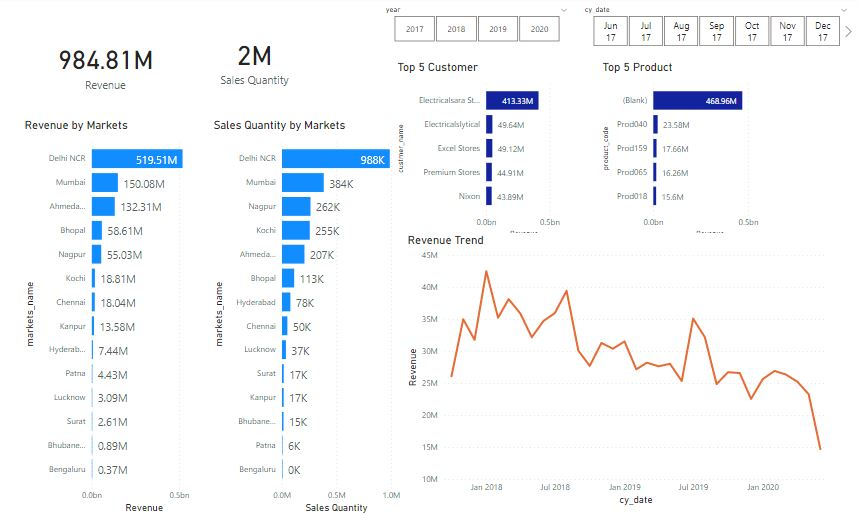

The page's visual inventory and layout, read from the dashboard file:
{"tool":"powerbi","page":{"name":"Page 1","canvas":[1280,780],"ordinal":0},"visuals":[{"type":"card","fields":{"Values":["BaseMeasures.Revenue"]},"box":[33.9,39.8,249.2,119.4],"z":0},{"type":"card","fields":{"Values":["BaseMeasures.Sales Quantity"]},"box":[283.1,25.1,190.2,134.2],"z":1000},{"type":"barChart","title":"Revenue by Markets","fields":{"Y":["BaseMeasures.Revenue"],"Category":["sales markets.markets_name"]},"box":[33.9,178.4,278.7,588.4],"z":2000},{"type":"barChart","title":"Sales Quantity by Markets","fields":{"Y":["BaseMeasures.Sales Quantity"],"Category":["sales markets.markets_name"]},"box":[312.6,178.4,286.1,588.4],"z":3000},{"type":"slicer","fields":{"Values":["sales date.cy_date"]},"box":[852.4,7.4,412.9,64.9],"z":4000},{"type":"slicer","fields":{"Values":["sales date.year"]},"box":[558.9,7.4,293.5,64.9],"z":5000},{"type":"barChart","title":"Top 5 Customer","fields":{"Y":["BaseMeasures.Revenue"],"Category":["sales customers.custmer_name"]},"box":[584,92.9,268.4,266.9],"z":6000},{"type":"barChart","title":"Top 5 Product","fields":{"Y":["BaseMeasures.Revenue"],"Category":["sales products.product_code"]},"box":[886.3,92.9,268.4,266.9],"z":7000},{"type":"lineChart","title":"Revenue Trend","fields":{"Y":["BaseMeasures.Revenue"],"Category":["sales date.cy_date"]},"box":[598.7,349.5,642.9,405.5],"z":8000}]}

Visuals, with their boxes in screenshot pixels (x1, y1, x2, y2), scaled from the page's 1280x780 canvas onto the 858x518 screenshot:
card - BaseMeasures.Revenue: [left=23, top=26, right=190, bottom=106]
card - BaseMeasures.Sales Quantity: [left=190, top=17, right=317, bottom=106]
"Revenue by Markets" barChart: [left=23, top=118, right=210, bottom=509]
"Sales Quantity by Markets" barChart: [left=210, top=118, right=401, bottom=509]
slicer - sales date.cy_date: [left=571, top=5, right=848, bottom=48]
slicer - sales date.year: [left=375, top=5, right=571, bottom=48]
"Top 5 Customer" barChart: [left=391, top=62, right=571, bottom=239]
"Top 5 Product" barChart: [left=594, top=62, right=774, bottom=239]
"Revenue Trend" lineChart: [left=401, top=232, right=832, bottom=501]
